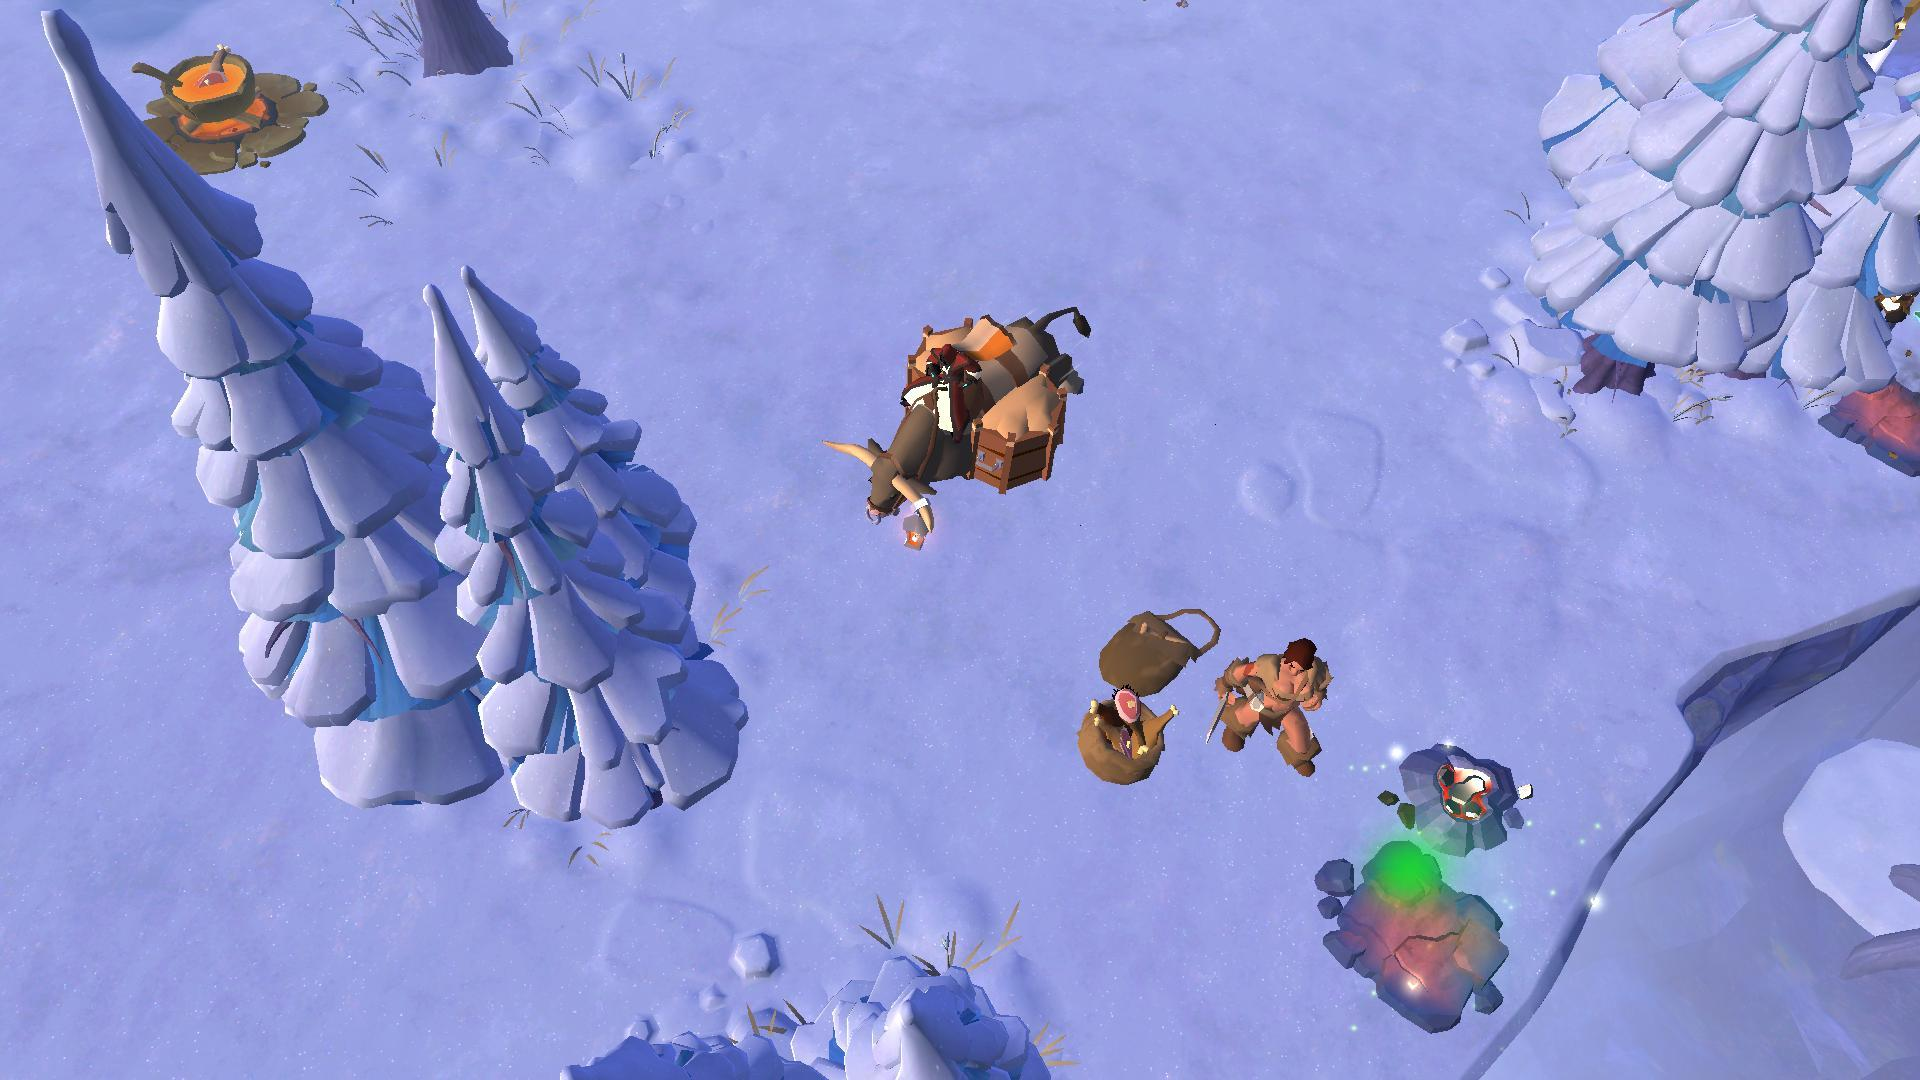enemy_factionKeeper: (1216, 622, 1332, 774)
